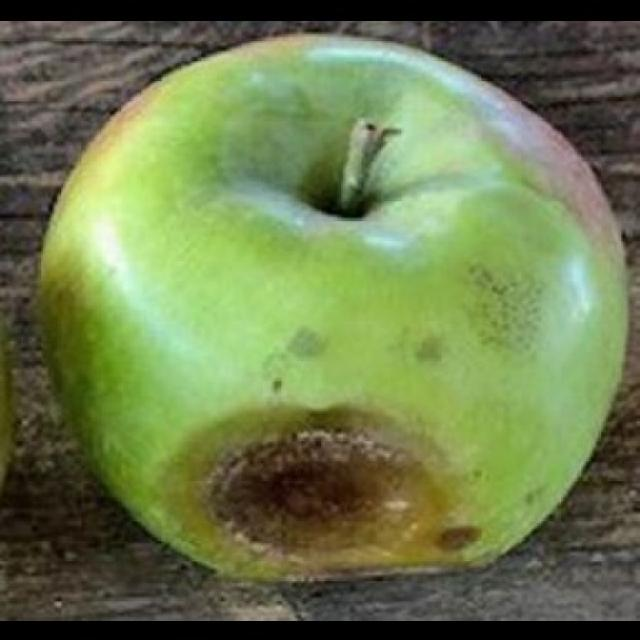Rotten Apple: (32, 29, 630, 585)
